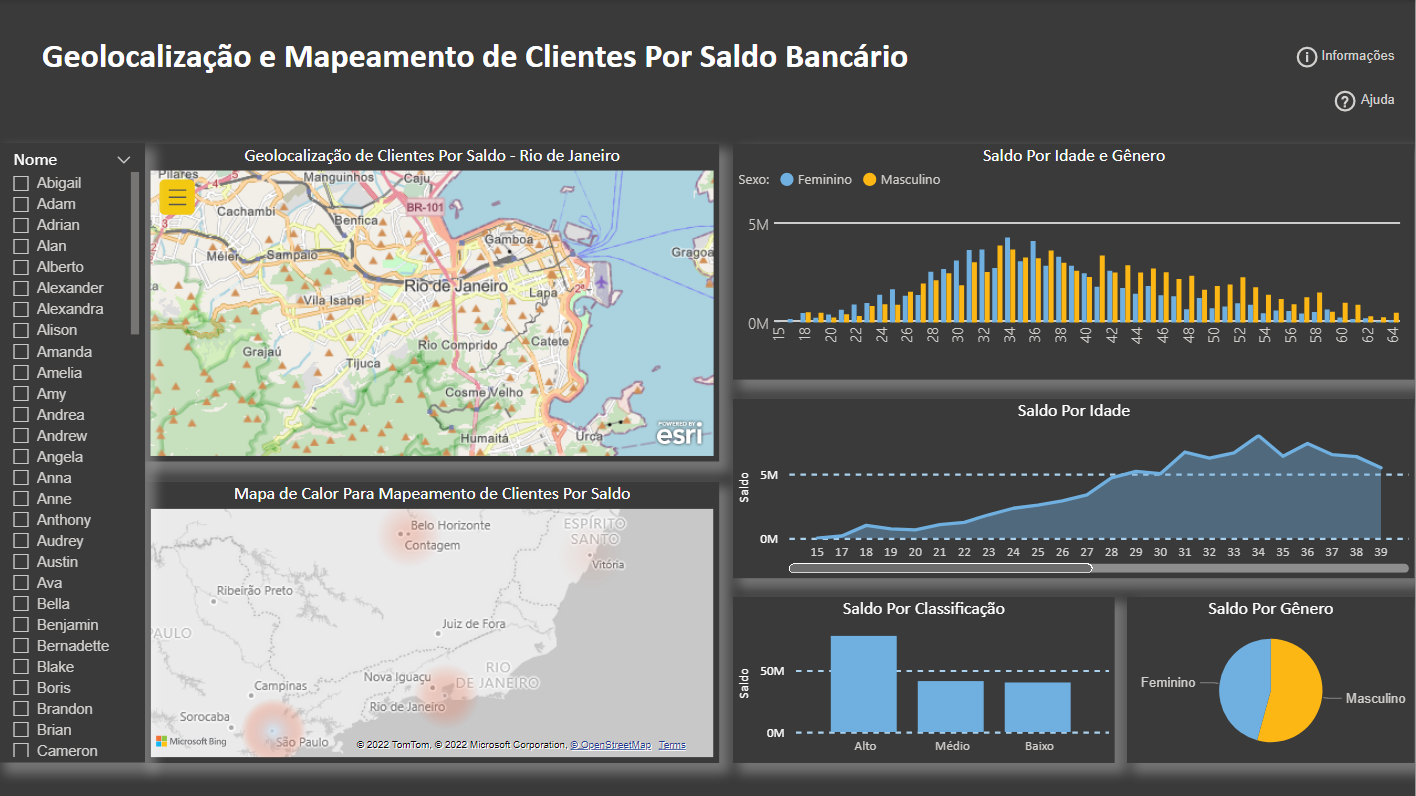

The dashboard page shown, as its layout file describes it:
{"tool":"powerbi","page":{"name":"Page 1","canvas":[1280,720],"ordinal":0},"visuals":[{"type":"esriVisual","title":"Geolocalização de Clientes Por Saldo - Rio de Janeiro","fields":{"Location":["clientes.Cidade"],"Size":["clientes.Saldo"]},"box":[132,130.2,518.9,286.6],"z":0},{"type":"map","title":"Mapa de Calor Para Mapeamento de Clientes Por Saldo","fields":{"Category":["clientes.Cidade"],"Size":["clientes.Saldo"]},"box":[132,435.7,518.9,254],"z":1000},{"type":"PBI_CV_73744D90_4DC9_4F18_8BA5_EE8FA5C98035","title":"Saldo Por Idade e Gênero","fields":{"Values":["clientes.Saldo"],"Legend":["clientes.Sexo"],"Category":["clientes.Idade"]},"box":[663.5,130.2,616.5,213.3],"z":2000},{"type":"areaChart","title":"Saldo Por Idade","fields":{"Y":["clientes.Saldo"],"Category":["clientes.Idade"]},"box":[663.5,360.7,616.5,161.8],"z":3000},{"type":"columnChart","title":"Saldo Por Classificação","fields":{"Y":["clientes.Saldo"],"Category":["clientes.Classificacao"]},"box":[663.5,539.7,345.3,150.1],"z":4000},{"type":"pieChart","title":"Saldo Por Gênero","fields":{"Category":["clientes.Sexo"],"Y":["clientes.Saldo"]},"box":[1019.7,539.7,260.3,150.1],"z":4001},{"type":"textbox","title":"Geolocalização e Mapeamento de Clientes Por Saldo Bancário","box":[24.4,31.6,811.8,39.8],"z":4002},{"type":"slicer","fields":{"Values":["clientes.Nome"]},"box":[0,129.3,132,559.5],"z":4003},{"type":"actionButton","box":[1162.5,31.6,108.5,39.8],"z":4004},{"type":"actionButton","box":[1196.8,71.4,74.1,39.8],"z":4005}]}

Visuals, with their boxes in screenshot pixels (x1, y1, x2, y2), scaled from the page's 1280x720 canvas onto the 1416x796 screenshot:
"Geolocalização de Clientes Por Saldo - Rio de Janeiro" esriVisual: (left=146, top=144, right=720, bottom=461)
"Mapa de Calor Para Mapeamento de Clientes Por Saldo" map: (left=146, top=482, right=720, bottom=763)
"Saldo Por Idade e Gênero" PBI_CV_73744D90_4DC9_4F18_8BA5_EE8FA5C98035: (left=734, top=144, right=1415, bottom=380)
"Saldo Por Idade" areaChart: (left=734, top=399, right=1415, bottom=578)
"Saldo Por Classificação" columnChart: (left=734, top=597, right=1116, bottom=763)
"Saldo Por Gênero" pieChart: (left=1128, top=597, right=1415, bottom=763)
"Geolocalização e Mapeamento de Clientes Por Saldo Bancário" textbox: (left=27, top=35, right=925, bottom=79)
slicer - clientes.Nome: (left=0, top=143, right=146, bottom=762)
actionButton: (left=1286, top=35, right=1406, bottom=79)
actionButton: (left=1324, top=79, right=1406, bottom=123)
